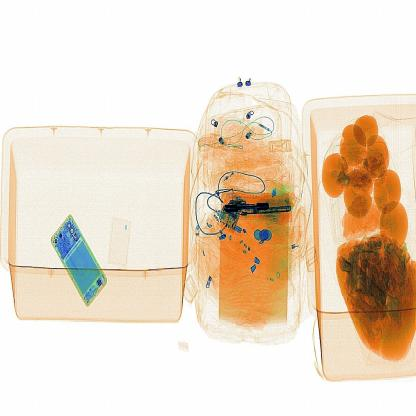knife: (220, 192, 273, 223)
